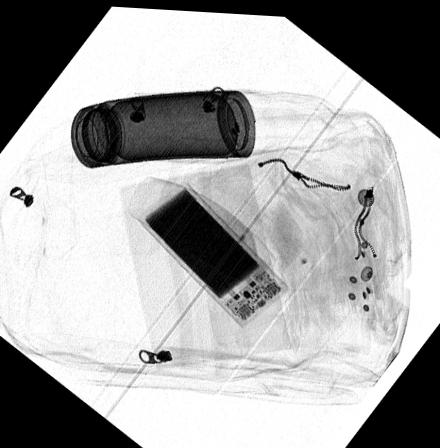Powerbank: (139, 178, 289, 324)
